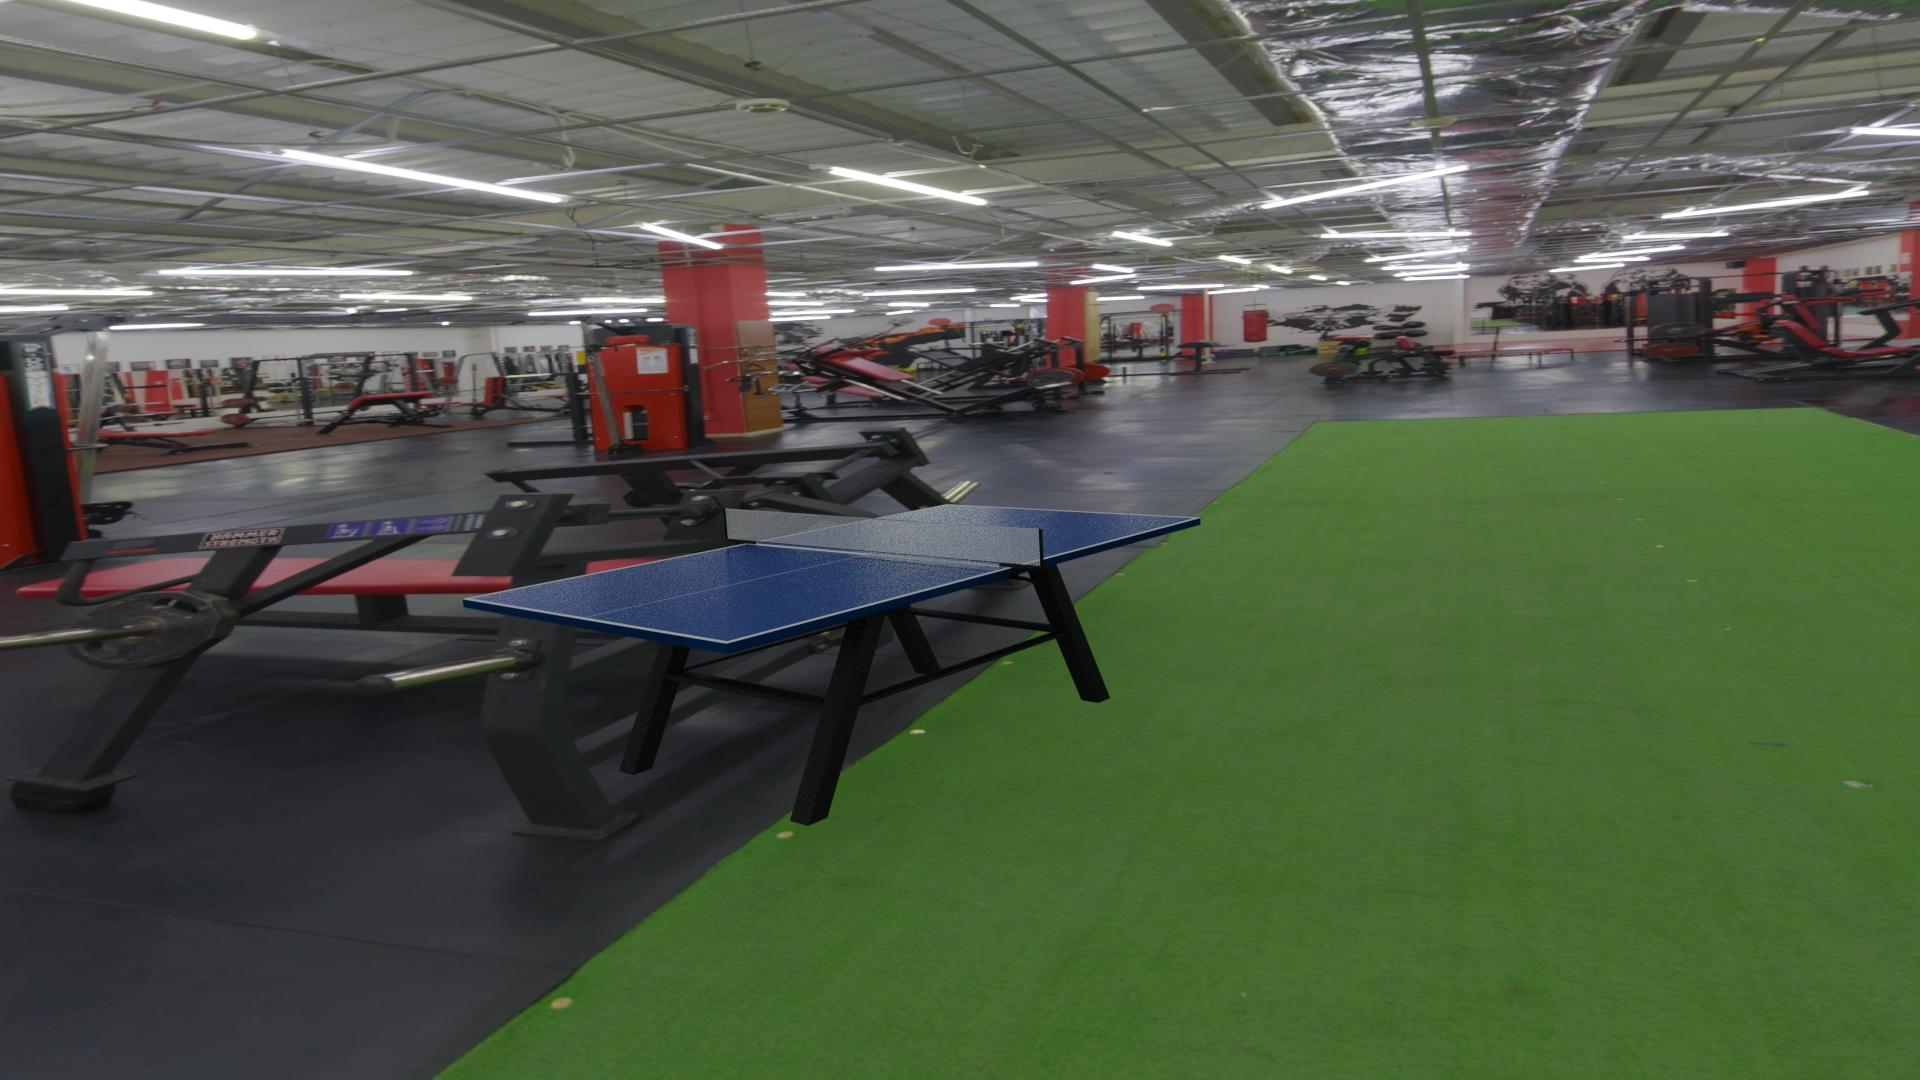table: (469, 505, 1195, 641)
